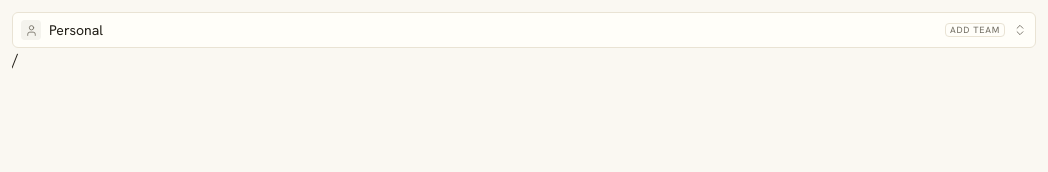
Test: the workspace switcher's create row › offers 'Create team workspace' even when signed out
The image size is (1048, 172).
Click the button "Personal Add team": (76, 30) [12, 12, 1036, 48]
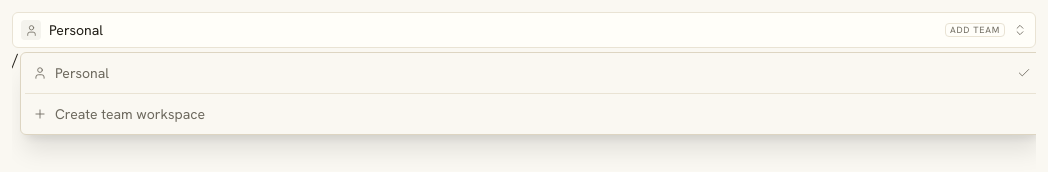
expect the menu item "Create team workspace" is shown: met, box [33, 105, 205, 123]
